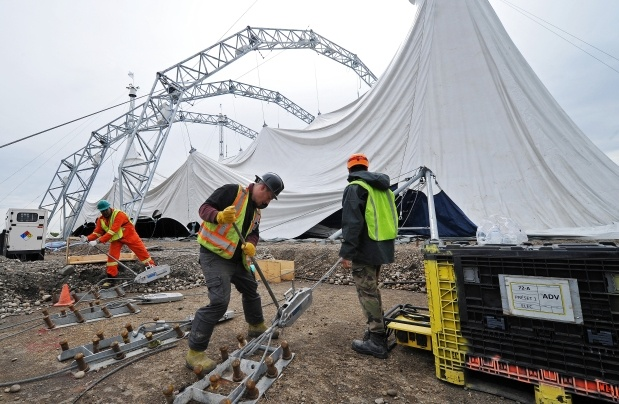blue: (249, 170, 286, 206), (96, 199, 111, 217)
yellow: (345, 151, 369, 177)
